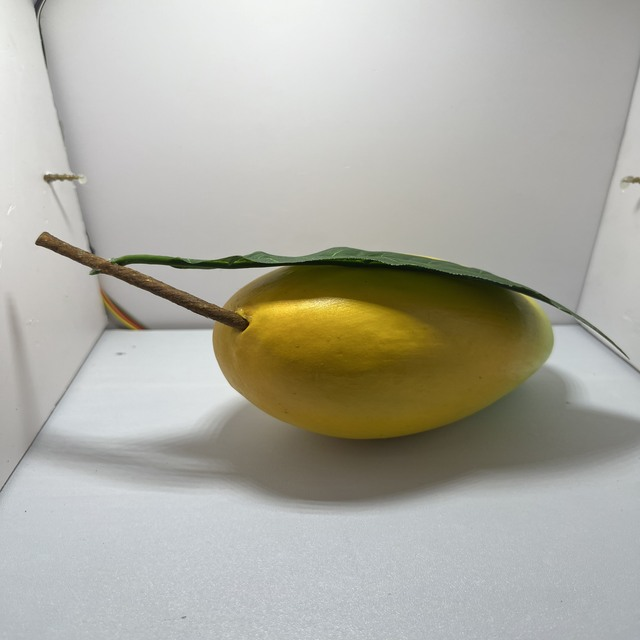Xoai: (208, 236, 569, 440)
